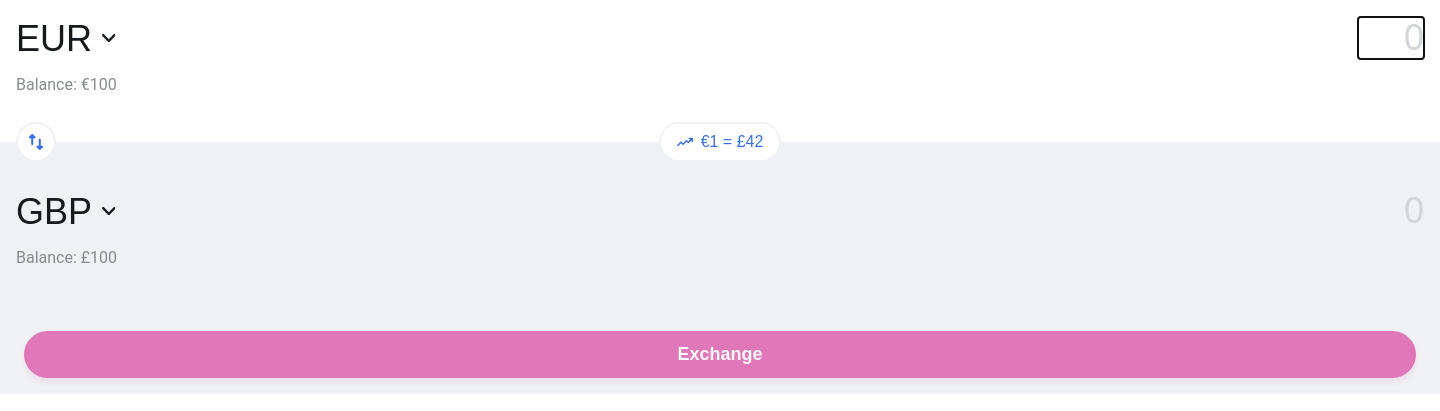
Test: <ExchangeWidget /> › should automatically pre-convert the "to" currency value when typing into the "from" field
The width and height of the screenshot is (1440, 411).
Type "10" into the field named "Convert from amount" at (1391, 38), box top-left (1358, 17), bottom-right (1424, 59)
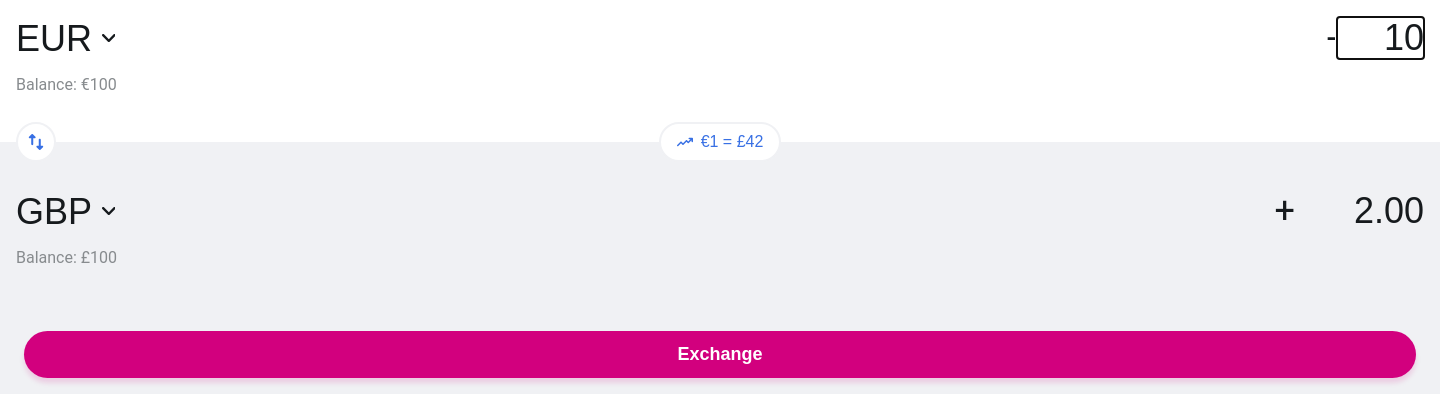
Now the field named "Convert to amount" holds "2.00", box top-left (1295, 190), bottom-right (1424, 232)
